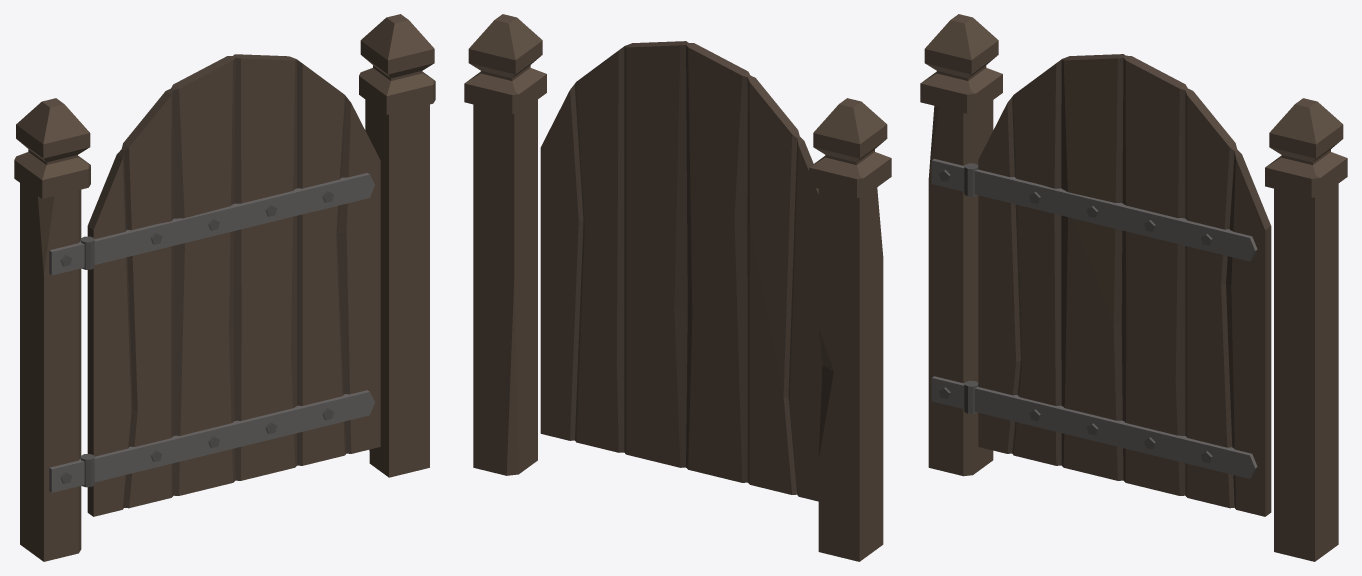
The model's file is SM_Props_Farm_Fence_Gate.fbx.
3 renders of one model, left to right at view 1: azimuth 30°, elevation 25°; view 2: azimuth 150°, elevation 25°; view 3: azimuth 330°, elevation 25°, orthographic.
Visible parts, largest first — view 1: SM_Props_Farm_Fence_Gate; view 2: SM_Props_Farm_Fence_Gate; view 3: SM_Props_Farm_Fence_Gate.
Part boxes in pixels (x1=…): SM_Props_Farm_Fence_Gate: x1=14, y1=14, x2=435, y2=561; SM_Props_Farm_Fence_Gate: x1=464, y1=14, x2=891, y2=561; SM_Props_Farm_Fence_Gate: x1=920, y1=14, x2=1347, y2=561.
Size of the model in its own units: 154 by 169 by 20.98.
